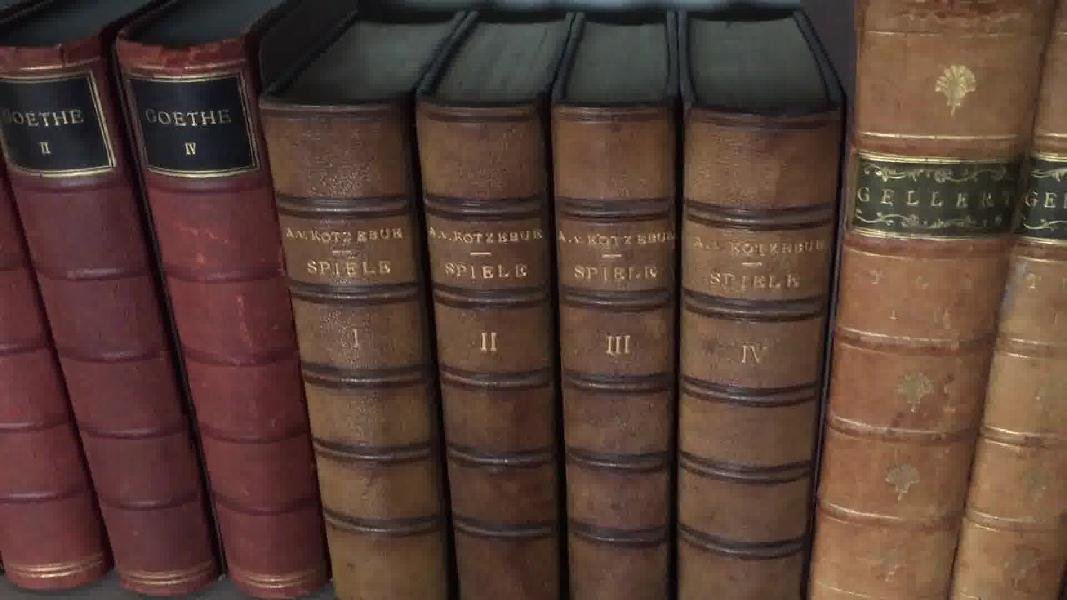Aa6-14_17: (244, 89, 874, 600)
